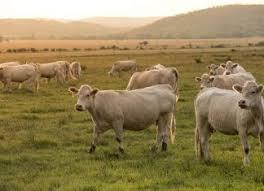cow: (69, 85, 176, 152), (195, 81, 264, 166), (126, 68, 178, 90), (196, 73, 254, 91), (0, 65, 38, 92), (26, 62, 63, 85), (108, 61, 137, 80)
